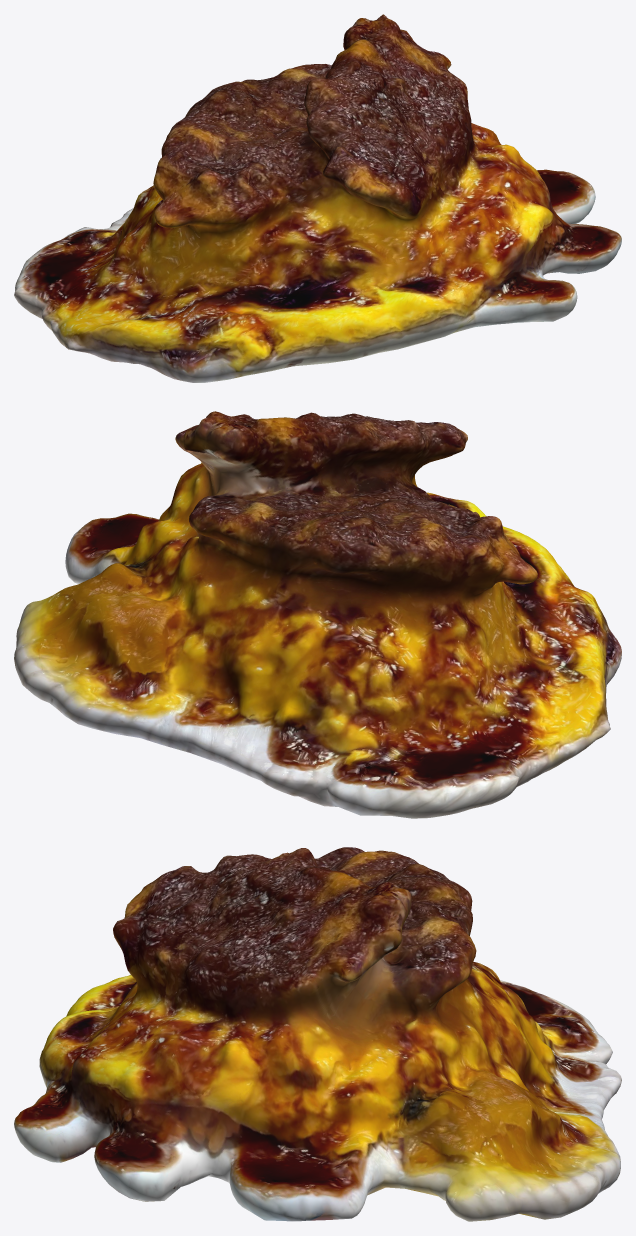
File: slim-volgarice.glb
The picture shows the model from 3 angles, top to bottom: view 1: azimuth 30°, elevation 25°; view 2: azimuth 150°, elevation 25°; view 3: azimuth 270°, elevation 25°; orthographic projection. The views are drawn at different scales.
Visible parts, largest first — view 1: baked_mesh; view 2: baked_mesh; view 3: baked_mesh.
Boxes of the visible parts, x1,y1,x2,y2 form: baked_mesh: (14, 14, 621, 382); baked_mesh: (14, 411, 621, 818); baked_mesh: (14, 847, 621, 1221).
Size of the model in its own units: 0.6018 by 0.2944 by 0.5211.
1 material, 1 textured.
